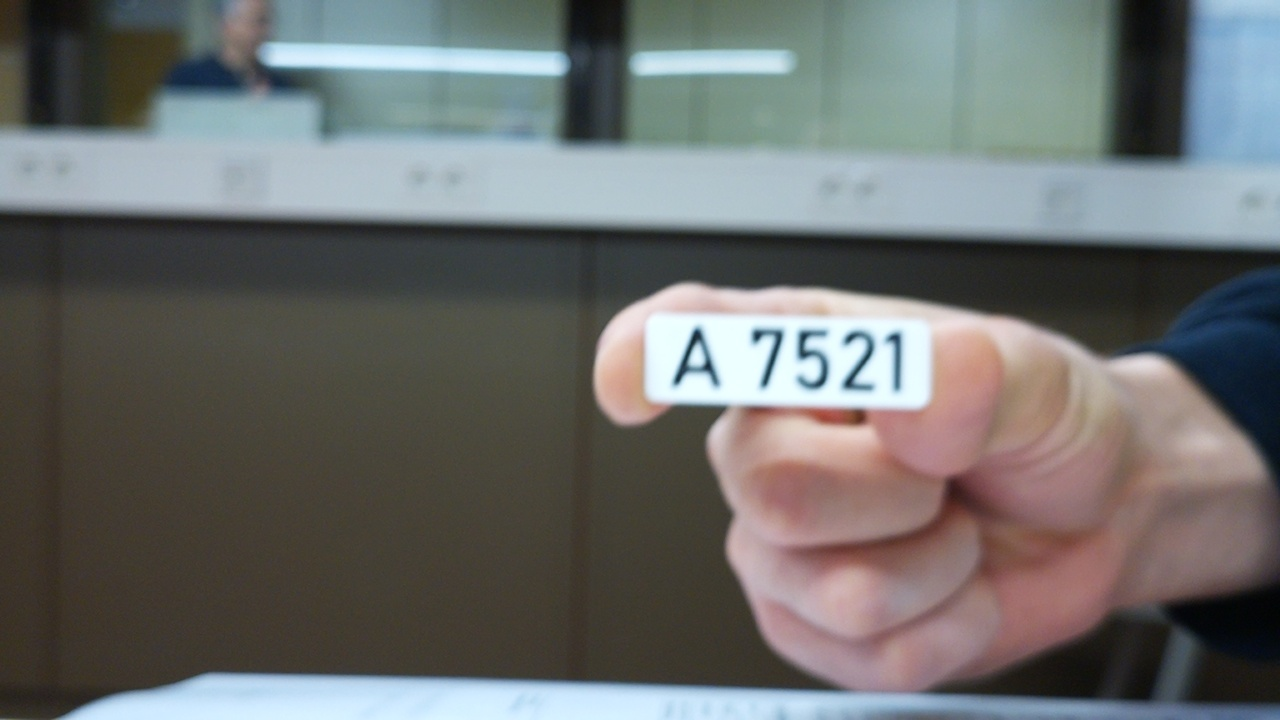license_plate: (643, 311, 934, 411)
